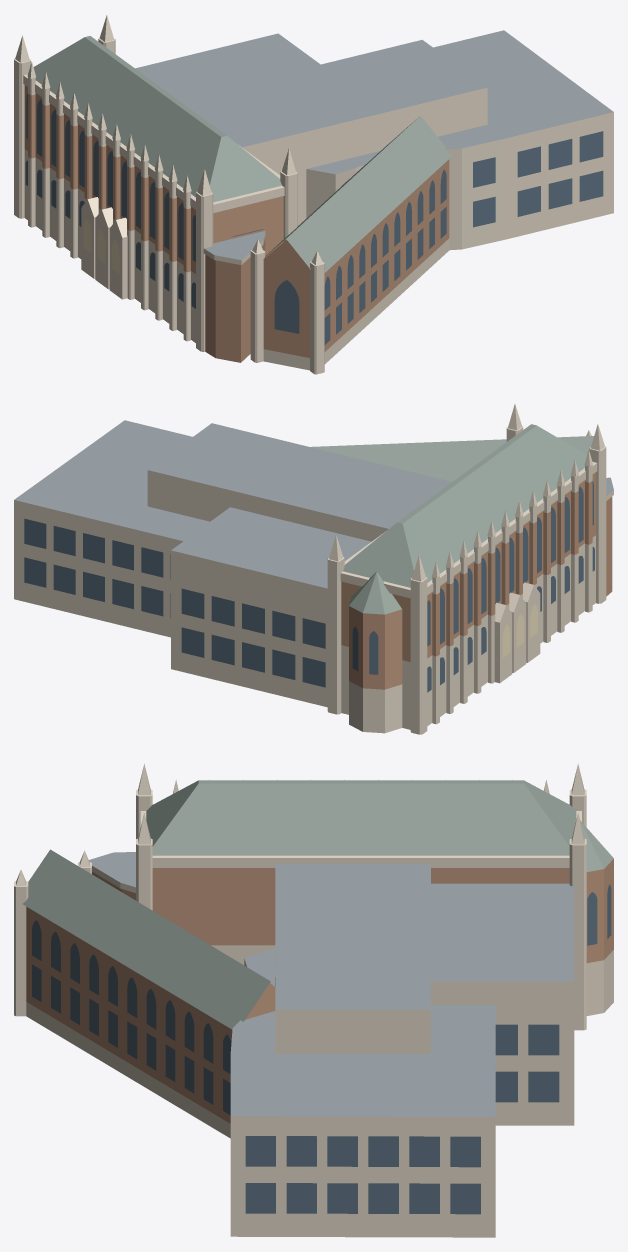
File: sea-suzzallo-library.glb
The picture shows the model from 3 angles, top to bottom: view 1: azimuth 30°, elevation 25°; view 2: azimuth 150°, elevation 25°; view 3: azimuth 270°, elevation 25°; orthographic projection. The views are drawn at different scales.
Parts seen in each view (by area): view 1: Suzzallo Library; view 2: Suzzallo Library; view 3: Suzzallo Library.
Boxes of the visible parts, box(x1,y1,x2,y2) form: Suzzallo Library: box(14, 15, 613, 374); Suzzallo Library: box(14, 404, 613, 734); Suzzallo Library: box(14, 763, 613, 1237).
Size of the model in its own units: 97.4 by 37.5 by 92.54.
